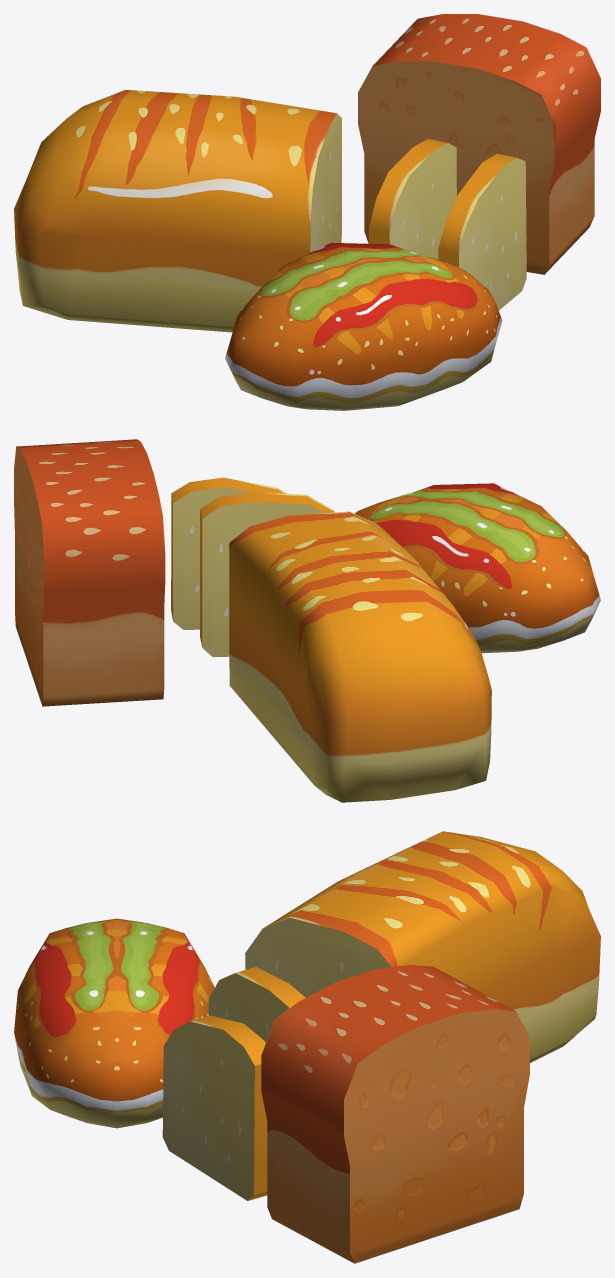
The model's file is Bread.fbx.
3 views of the same model, one above another, from view 1: azimuth 30°, elevation 25°; view 2: azimuth 150°, elevation 25°; view 3: azimuth 270°, elevation 25° (orthographic). The views are drawn at different scales.
Visible parts, largest first — view 1: 043; view 2: 043; view 3: 043.
Part boxes in pixels (x1,y1,x2,y2): 043: [14, 14, 600, 410]; 043: [14, 439, 600, 802]; 043: [14, 831, 600, 1263].
Size of the model in its own units: 60.16 by 21.37 by 52.66.
1 material, 1 textured.
